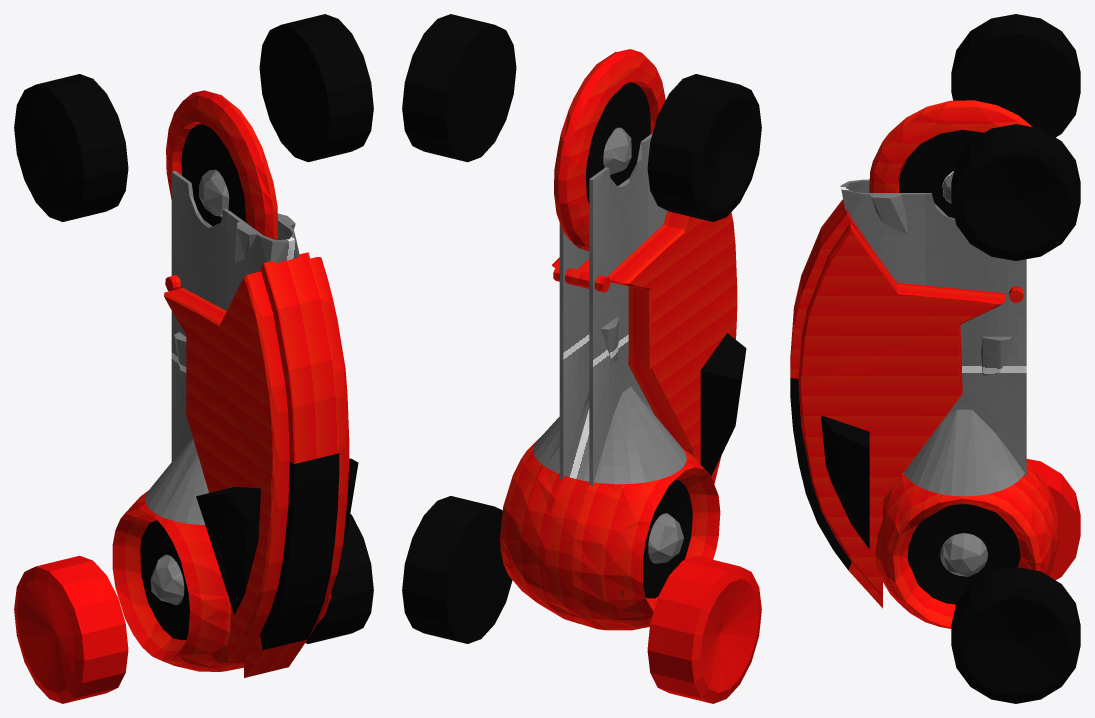
File: lightcyclewheeled_wtf.obj
The picture shows the model from 3 angles, left to right: view 1: azimuth 30°, elevation 25°; view 2: azimuth 150°, elevation 25°; view 3: azimuth 270°, elevation 25°; orthographic projection. The views are drawn at different scales.
Parts seen in each view (by area): view 1: group6, group5, group2, group1, group4, group8, group7, group9, group3; view 2: group6, group5, group2, group1, group4, group3, group7, group9; view 3: group6, group5, group3, group4, group2, group7, group10, group1, group8.
Boxes of the visible parts, x1=… form: group6: x1=112, y1=90, x2=349, y2=677; group5: x1=145, y1=169, x2=299, y2=605; group2: x1=14, y1=74, x2=128, y2=221; group1: x1=14, y1=555, x2=128, y2=703; group4: x1=259, y1=14, x2=373, y2=162; group8: x1=260, y1=453, x2=339, y2=649; group7: x1=140, y1=124, x2=246, y2=640; group9: x1=196, y1=487, x2=260, y2=614; group3: x1=305, y1=514, x2=373, y2=643; group6: x1=500, y1=49, x2=737, y2=630; group5: x1=533, y1=127, x2=686, y2=563; group2: x1=647, y1=74, x2=761, y2=221; group1: x1=647, y1=555, x2=761, y2=703; group4: x1=402, y1=14, x2=516, y2=162; group3: x1=402, y1=496, x2=512, y2=643; group7: x1=586, y1=82, x2=692, y2=598; group9: x1=700, y1=333, x2=746, y2=476; group6: x1=790, y1=100, x2=1058, y2=628; group5: x1=840, y1=171, x2=1026, y2=576; group3: x1=951, y1=567, x2=1080, y2=703; group4: x1=951, y1=124, x2=1080, y2=260; group2: x1=951, y1=14, x2=1080, y2=137; group7: x1=887, y1=130, x2=1020, y2=604; group10: x1=821, y1=415, x2=869, y2=549; group1: x1=1027, y1=459, x2=1080, y2=580; group8: x1=790, y1=378, x2=851, y2=569.
Size of the model in its own units: 335 by 660 by 310.
